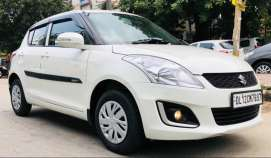license_plate: (231, 92, 267, 106)
